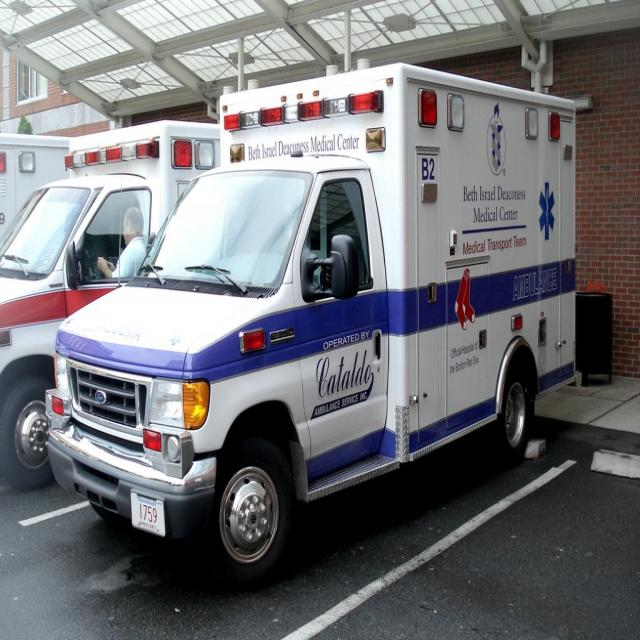Ambulance: (45, 60, 578, 588)
